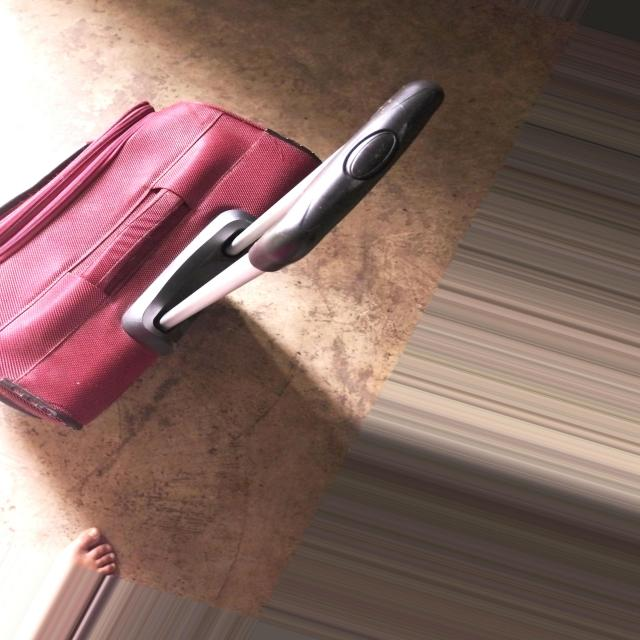Bag: (0, 38, 459, 440)
Handle: (160, 69, 452, 355)
